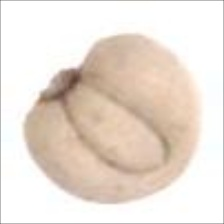L5: (64, 83, 171, 176), (32, 62, 89, 107)
L6: (21, 32, 203, 206)
